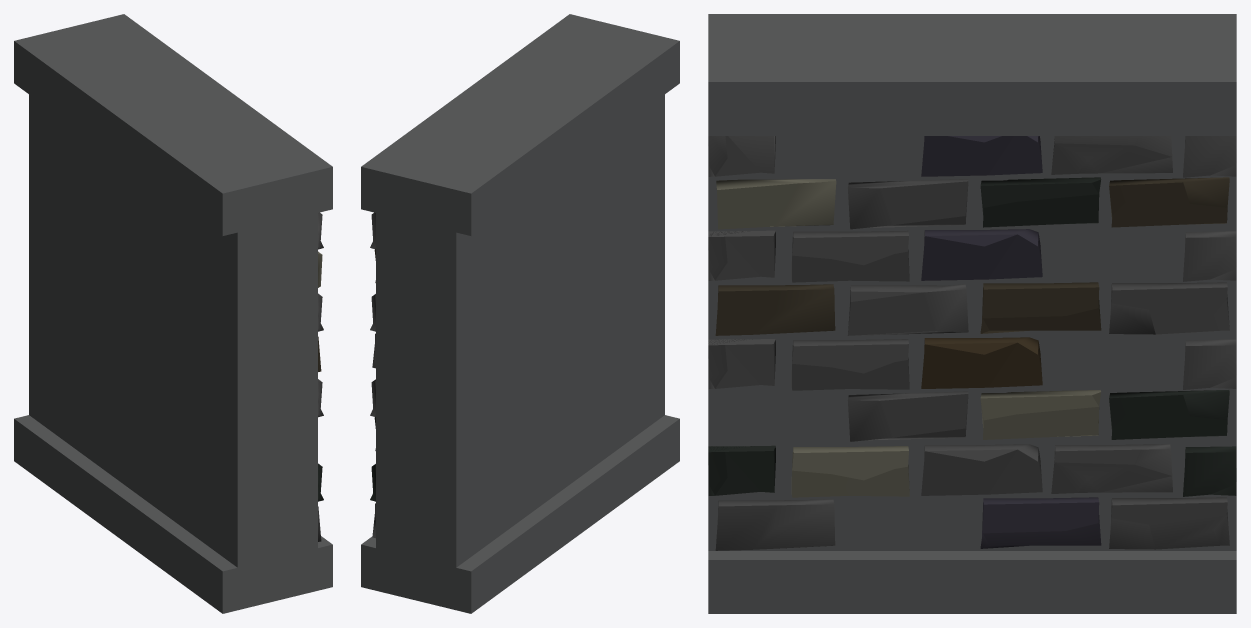
File: Wall3.fbx
3 views of the same model, side by side, from view 1: azimuth 30°, elevation 25°; view 2: azimuth 150°, elevation 25°; view 3: azimuth 270°, elevation 25° (orthographic). The views are drawn at different scales.
Parts seen in each view (by area): view 1: Wall3; view 2: Wall3; view 3: Wall3.
Part boxes in pixels (x1,y1,x2,y2): Wall3: (14, 14, 332, 613); Wall3: (361, 14, 679, 613); Wall3: (708, 14, 1236, 613).
Bounding box in the file's own units: 137 × 500 × 450.
